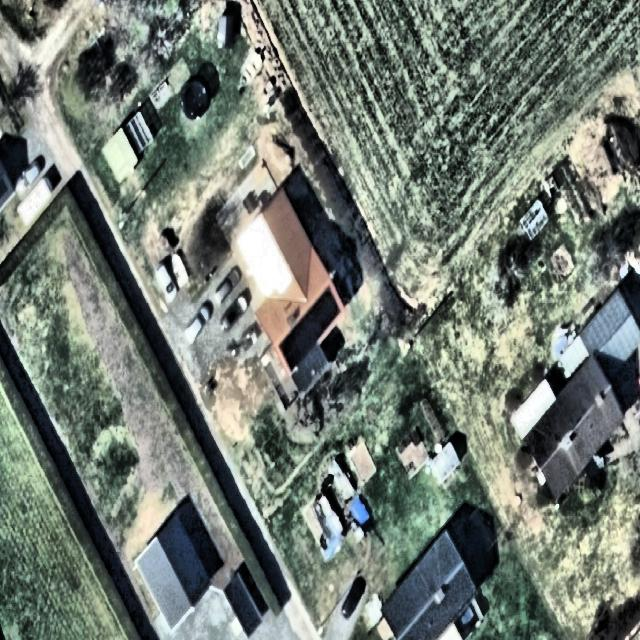roof_pv: (309, 282, 341, 348), (280, 309, 308, 372)
